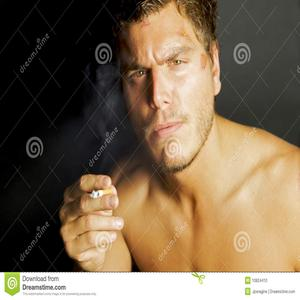cigarette: (90, 184, 115, 199)
